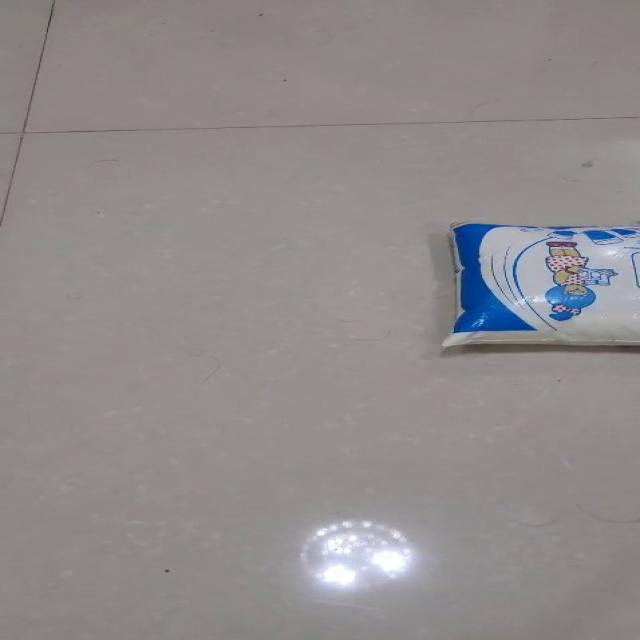plastic: (441, 220, 638, 348)
